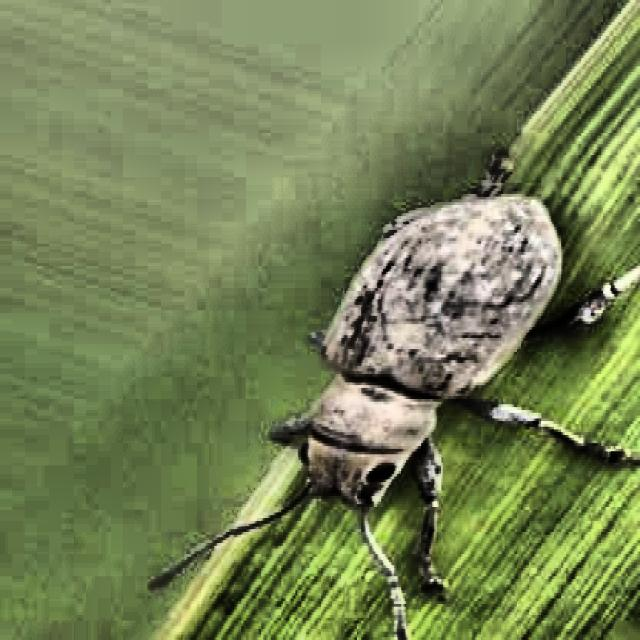Stink bug: (186, 58, 627, 638)
